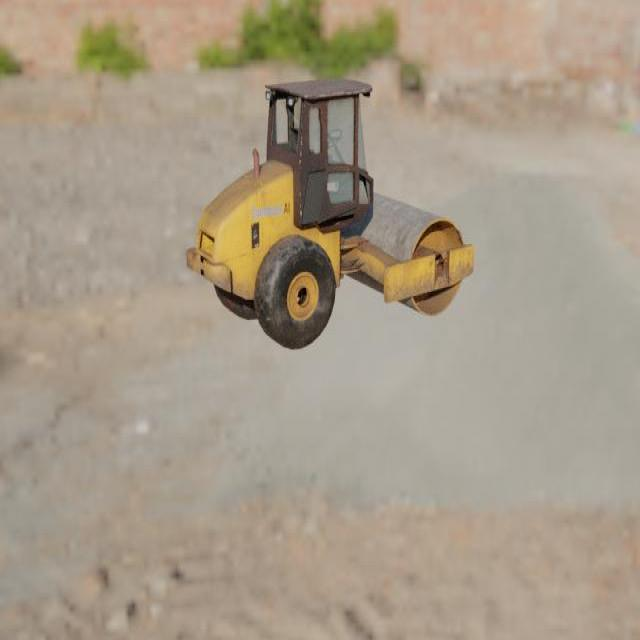Roller: (185, 78, 474, 350)
